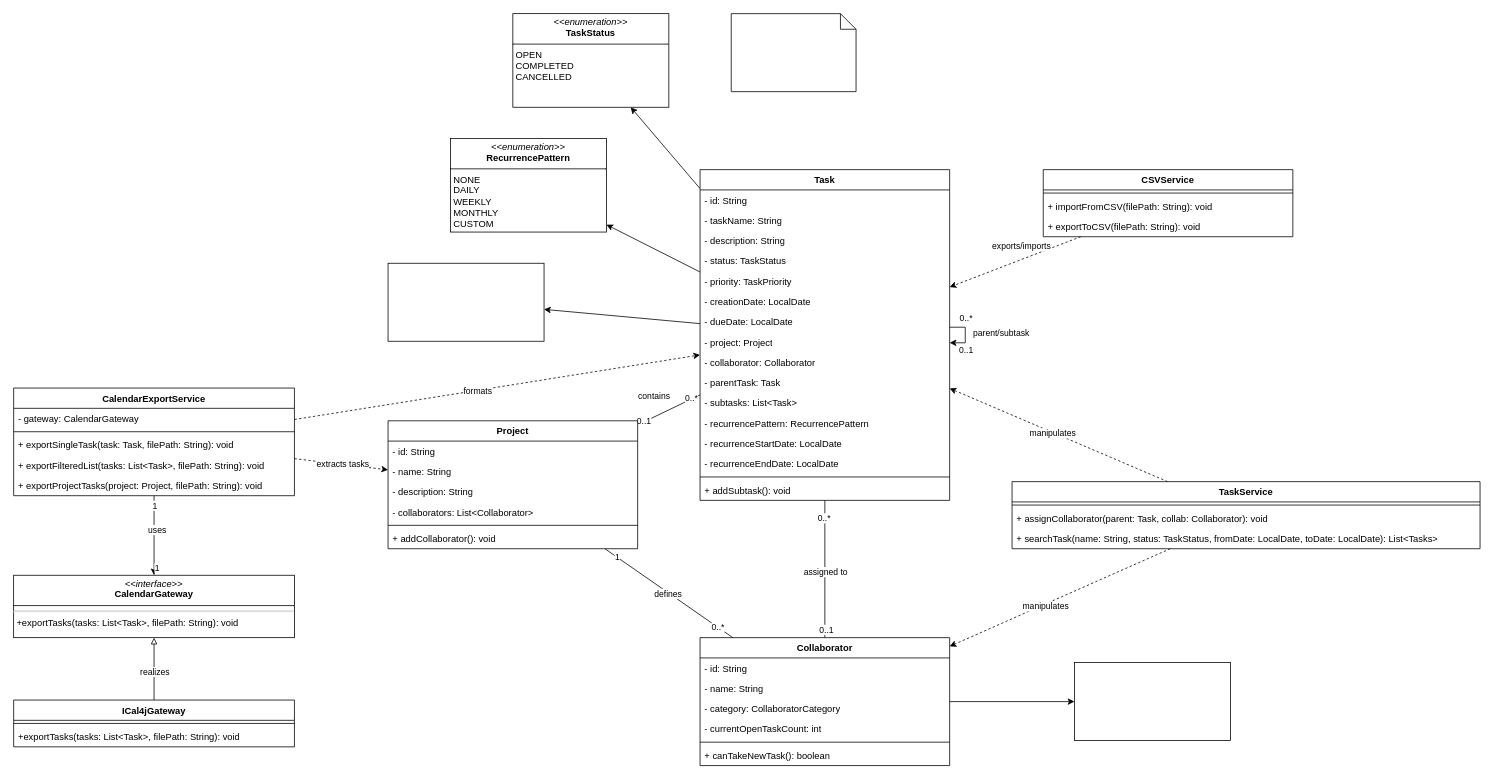
This 1494x782 diagram has some shape labels left out. The shapes that lost their labels are listed below. From the top down, each one's centre as x and y in pixels, then its label:
point (793, 52): Assume Setters and Getters for all private fields of all classses
point (465, 301): <<enumeration>> TaskPriority HIGH MEDUIM LOW
point (1152, 701): <<enumeration>> ColaboratorCategory SENIOR INTERMEDIATE JUNIOR
